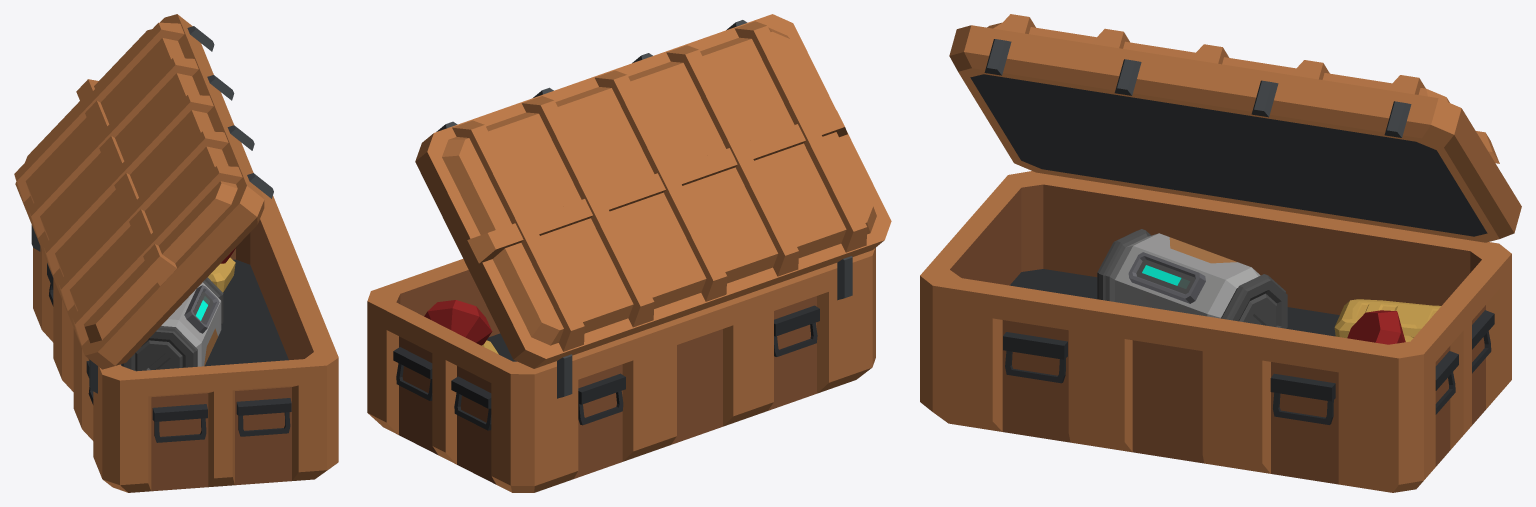
The model's file is MetaChestChallenges.fbx.
The picture shows the model from 3 angles, left to right: view 1: azimuth 30°, elevation 25°; view 2: azimuth 150°, elevation 25°; view 3: azimuth 270°, elevation 25°; orthographic projection. The views are drawn at different scales.
Parts seen in each view (by area): view 1: SM_Prop_Crate_Plastic_Lid_01, MetaChestChallenges, SM_Prop_Cylinder_02, SM_Prop_Gold_Ingot_01 (42); view 2: SM_Prop_Crate_Plastic_Lid_01, MetaChestChallenges, SM_Item_Gem_02; view 3: MetaChestChallenges, SM_Prop_Crate_Plastic_Lid_01, SM_Prop_Cylinder_02, SM_Prop_Gold_Ingot_01 (43), SM_Item_Gem_02.
Boxes of the visible parts, left/top/right/bottom form: SM_Prop_Crate_Plastic_Lid_01: left=14, top=14, right=273, bottom=369; MetaChestChallenges: left=31, top=191, right=338, bottom=492; SM_Prop_Cylinder_02: left=122, top=277, right=223, bottom=371; SM_Prop_Gold_Ingot_01 (42): left=208, top=257, right=235, bottom=292; SM_Prop_Crate_Plastic_Lid_01: left=415, top=14, right=891, bottom=368; MetaChestChallenges: left=367, top=248, right=875, bottom=492; SM_Item_Gem_02: left=424, top=300, right=492, bottom=345; MetaChestChallenges: left=920, top=171, right=1511, bottom=492; SM_Prop_Crate_Plastic_Lid_01: left=949, top=14, right=1521, bottom=242; SM_Prop_Cylinder_02: left=1097, top=229, right=1287, bottom=328; SM_Prop_Gold_Ingot_01 (43): left=1334, top=299, right=1440, bottom=338; SM_Item_Gem_02: left=1347, top=310, right=1405, bottom=344.
Bounding box in the file's own units: 1.24 × 1.07 × 1.61.
